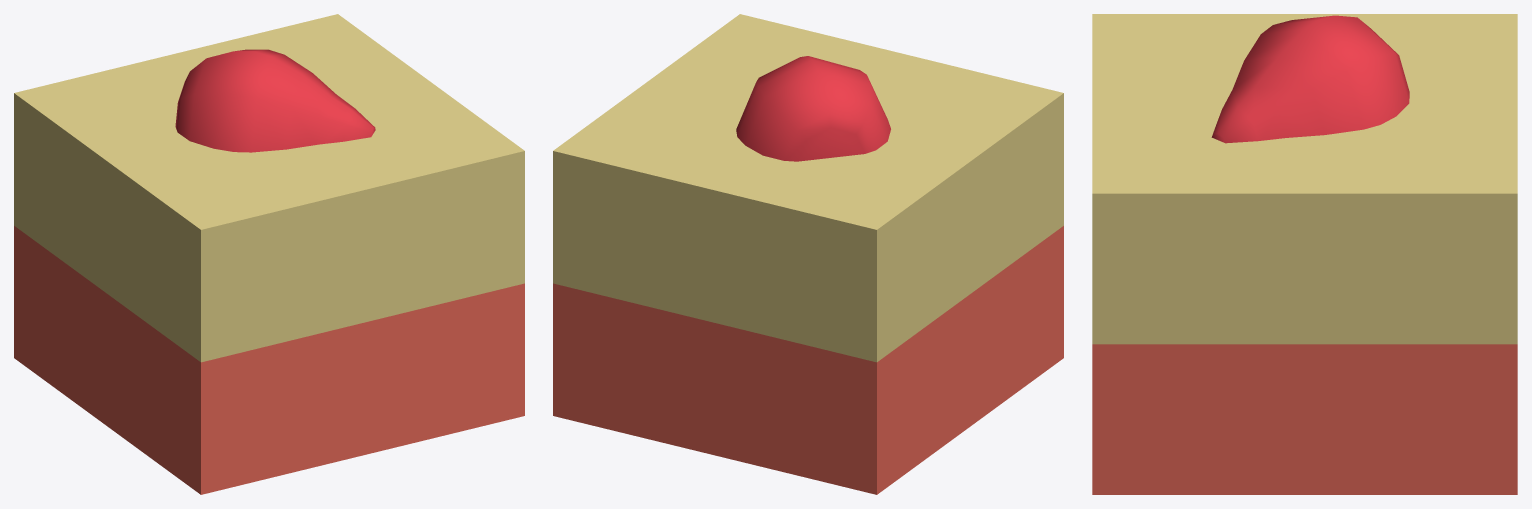
File: cake_red_1.fbx
3 views of the same model, side by side, from view 1: azimuth 30°, elevation 25°; view 2: azimuth 150°, elevation 25°; view 3: azimuth 270°, elevation 25° (orthographic). The views are drawn at different scales.
Parts seen in each view (by area): view 1: 立方体.027; view 2: 立方体.027; view 3: 立方体.027.
Boxes of the visible parts, left/top/right/bottom form: 立方体.027: left=14, top=14, right=524, bottom=494; 立方体.027: left=553, top=14, right=1063, bottom=494; 立方体.027: left=1092, top=14, right=1517, bottom=494.
Size of the model in its own units: 14.6 by 14.37 by 14.6.
